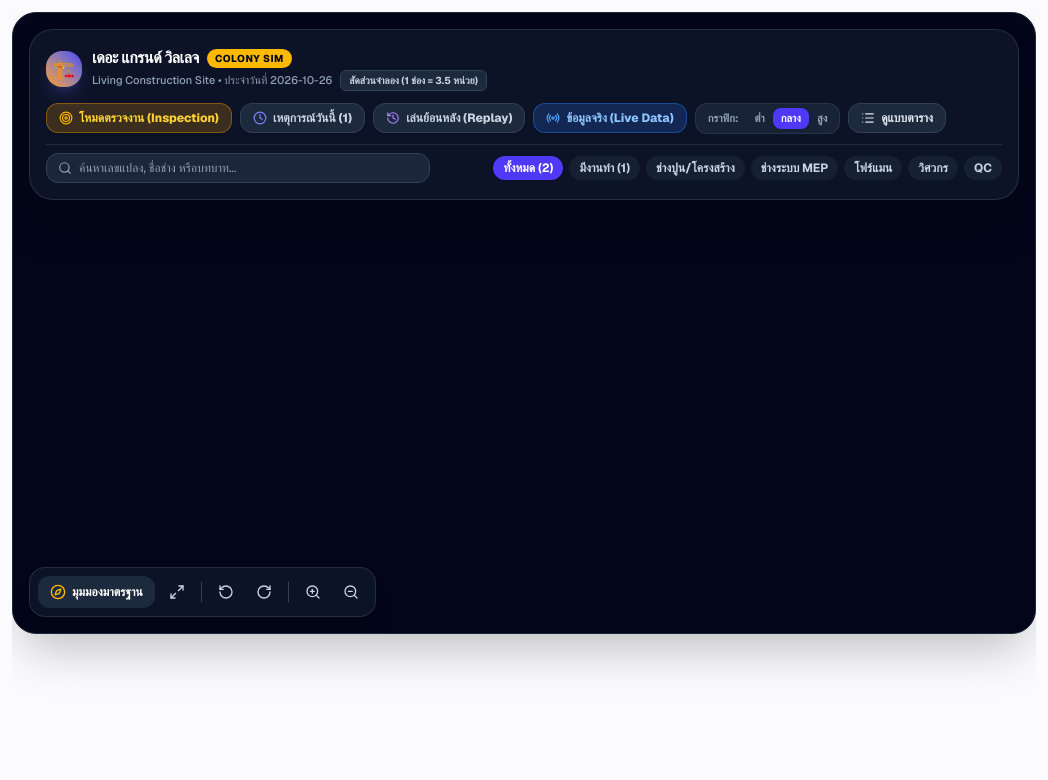
Test: LivingSiteSimulation Component UI › renders correctly and allows switching between 3D mode and Accessible List View
Expected: the heading "เดอะ แกรนด์ วิลเลจ" is shown, x1=92 y1=46 x2=199 y2=70
Expected: the text "Colony Sim" is shown, x1=207 y1=48 x2=292 y2=68
// Toggle to accessible list view
Click the button "ดูแบบตาราง" at (897, 118), box x1=848 y1=103 x2=946 y2=133
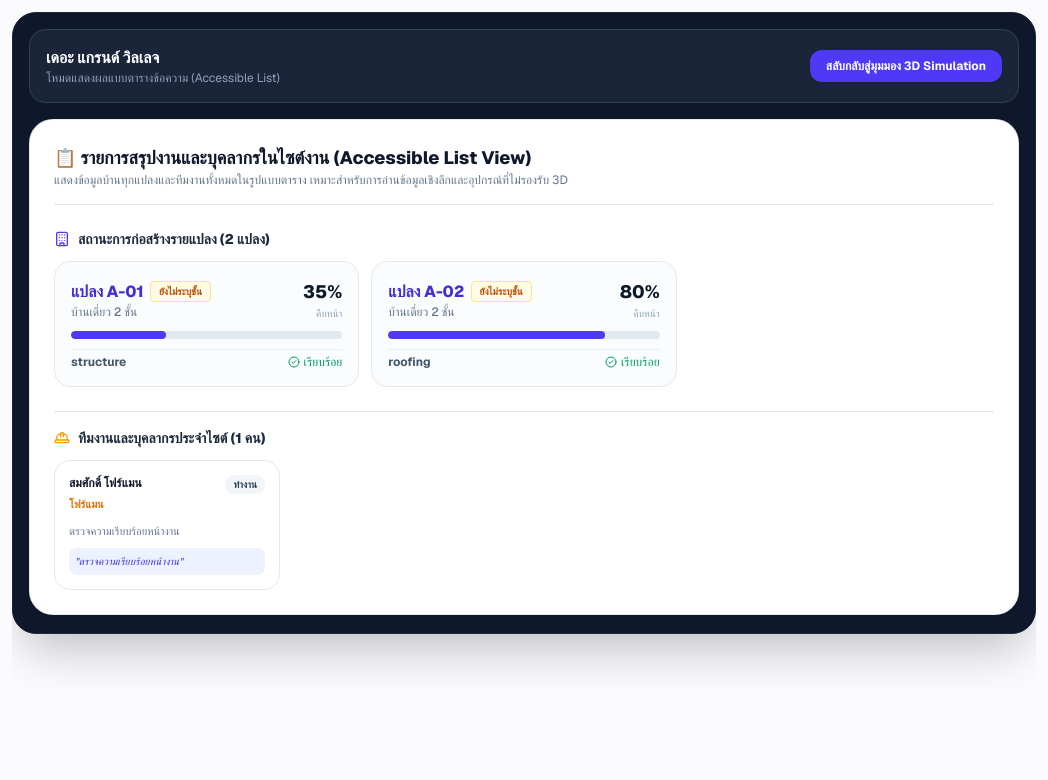
Expected: the text "📋 รายการสรุปงานและบุคลากรในไซต์งาน (Accessible List View)" is shown, x1=54 y1=144 x2=532 y2=172
Expected: the text "สถานะการก่อสร้างรายแปลง (2 แปลง)" is shown, x1=78 y1=229 x2=270 y2=249
// Toggle back to 3D simulation
Click the button "สลับกลับสู่มุมมอง 3D Simulation" at (906, 66), box x1=810 y1=50 x2=1002 y2=82
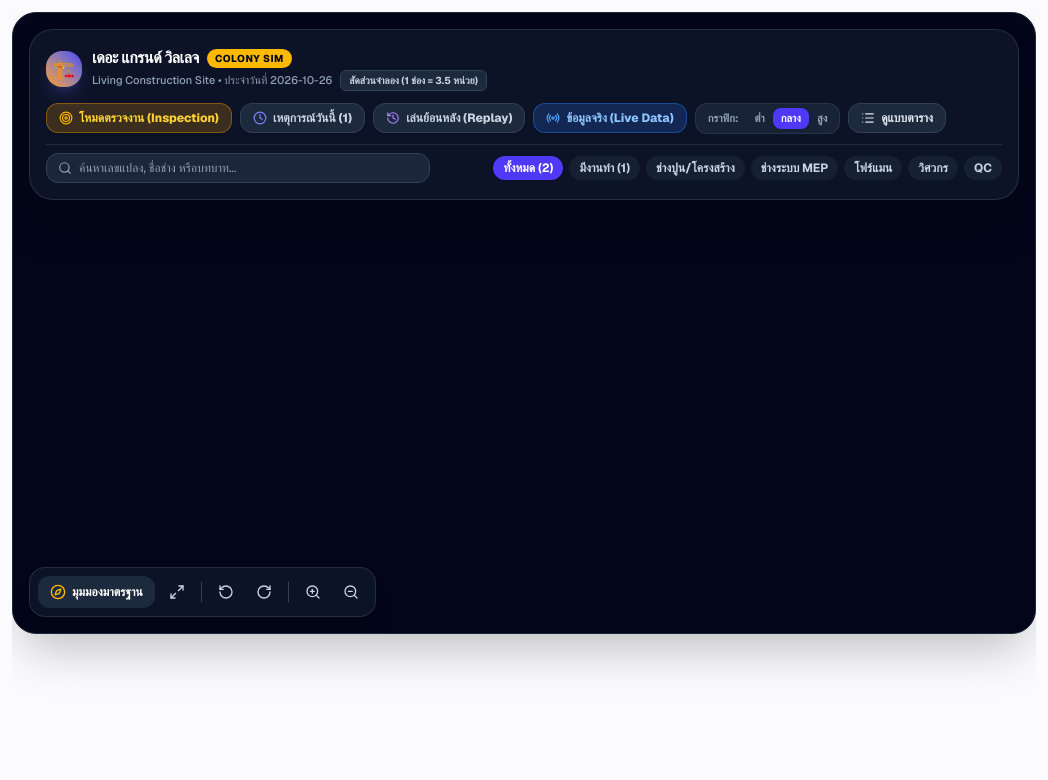
Expected: the button titled "Snap กลับมามุมมองผังมาตรฐาน Isometric" is shown, x1=38 y1=576 x2=155 y2=608
